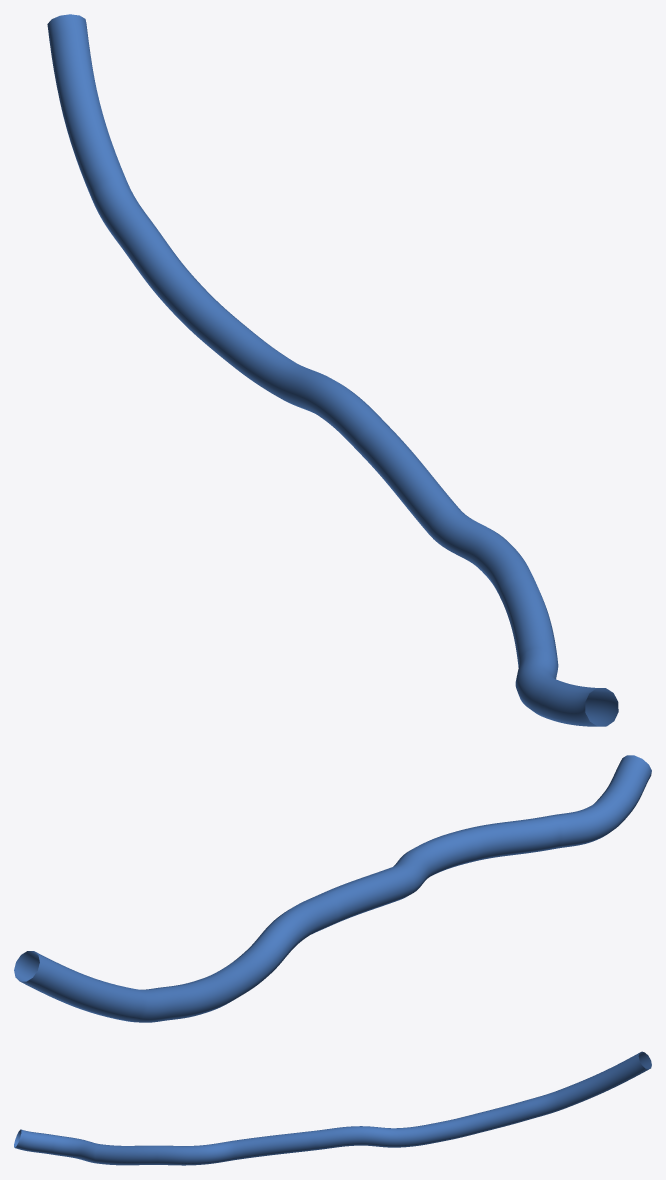
3 renders of one model, top to bottom at view 1: azimuth 30°, elevation 25°; view 2: azimuth 150°, elevation 25°; view 3: azimuth 270°, elevation 25°, orthographic. The views are drawn at different scales.
Visible parts, largest first — view 1: 左侧股静脉; view 2: 左侧股静脉; view 3: 左侧股静脉.
Boxes of the visible parts, x1,y1,x2,y2 form: 左侧股静脉: (47,14,618,726); 左侧股静脉: (14,755,651,1022); 左侧股静脉: (14,1051,651,1165).
Bounding box in the file's own units: 0.0582 × 0.1049 × 0.4718.
